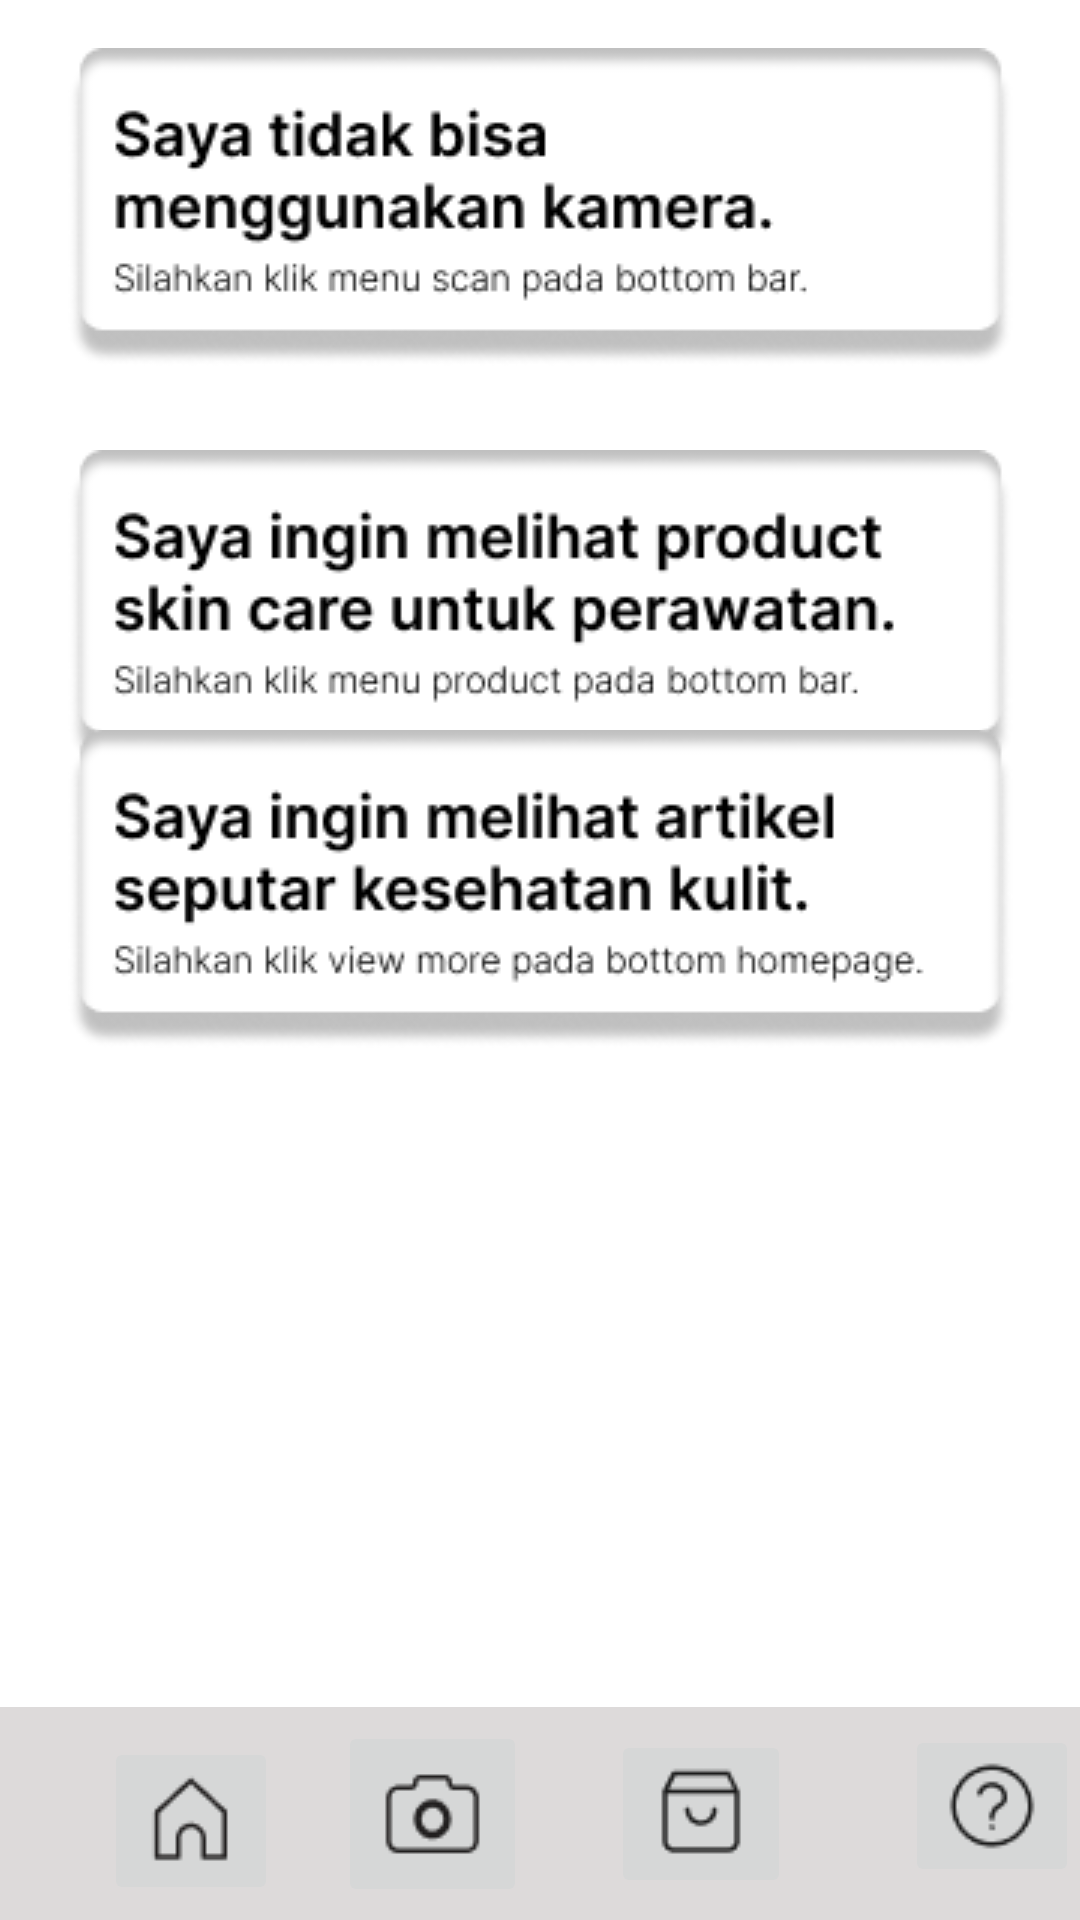

Where icons sit on this 1080px×1920px app screen, as bbox=(x1, y1, x2, y2):
buttonaboutus: bbox=(949, 1763, 1035, 1849)
buttoncam: bbox=(385, 1774, 480, 1854)
buttonhome: bbox=(153, 1777, 228, 1861)
buttonproduct: bbox=(661, 1769, 741, 1854)
